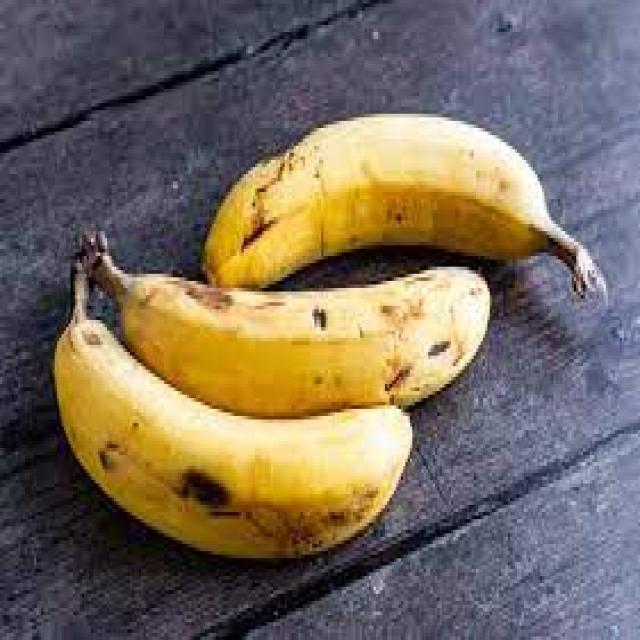banana: (48, 228, 503, 560), (198, 97, 616, 320)
